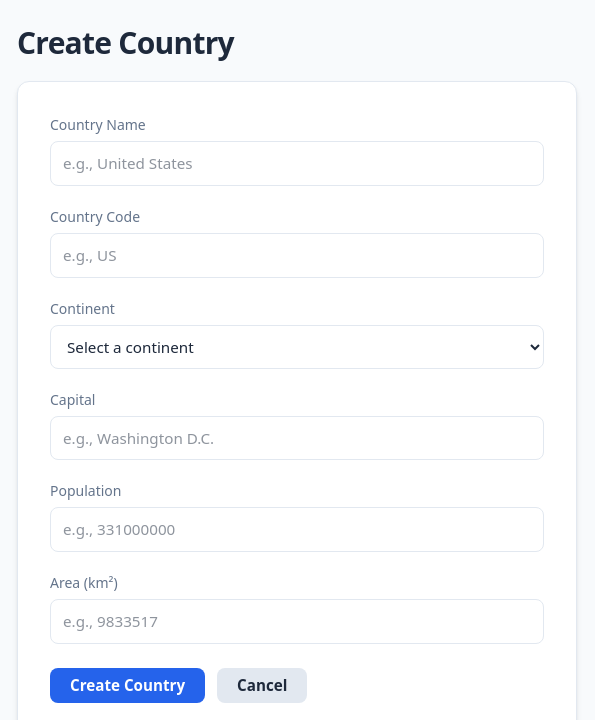
Test: shows timeout message when create request times out
The width and height of the screenshot is (595, 720).
Type "Canada" into the field labelled "Country Name".
click(297, 163); type("Canada")  # box [50,141,544,186]
Type "CA" into the field labelled "Country Code".
click(297, 255); type("CA")  # box [50,233,544,278]
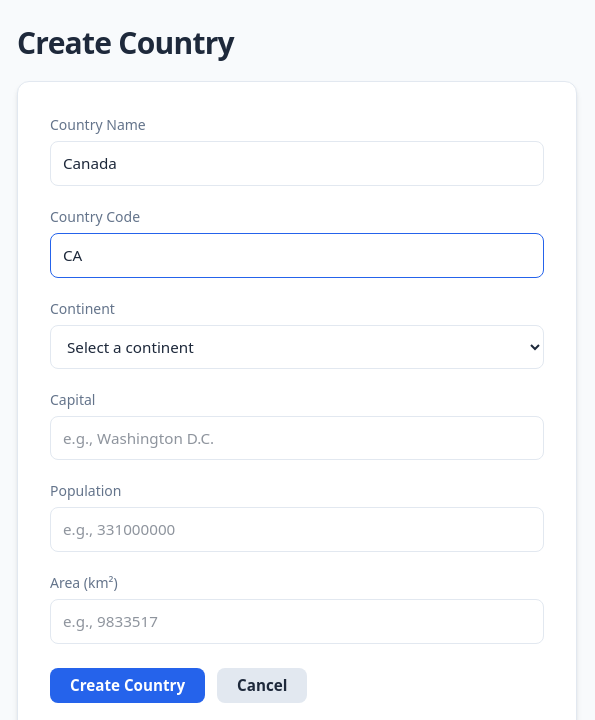
Select "North America" in the dropdown labelled "Continent" at (297, 347), box [50,325,544,369]
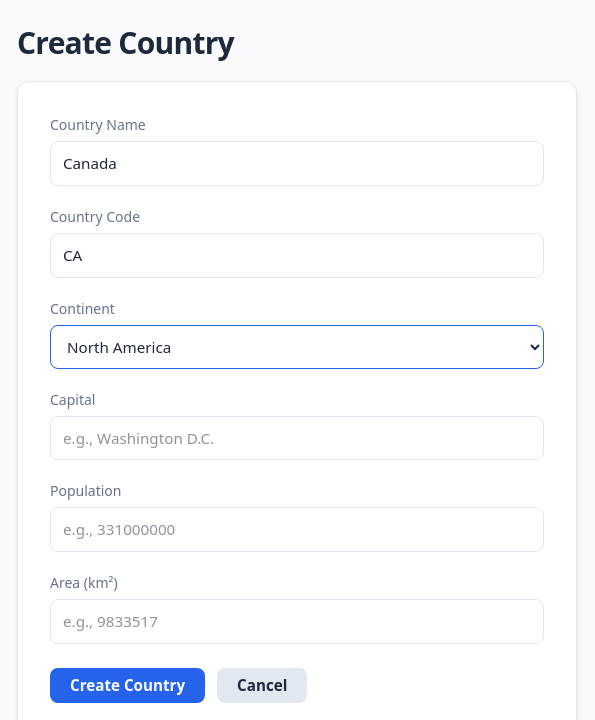
Type "Ottawa" into the field labelled "Capital".
click(297, 438); type("Ottawa")  # box [50,416,544,460]
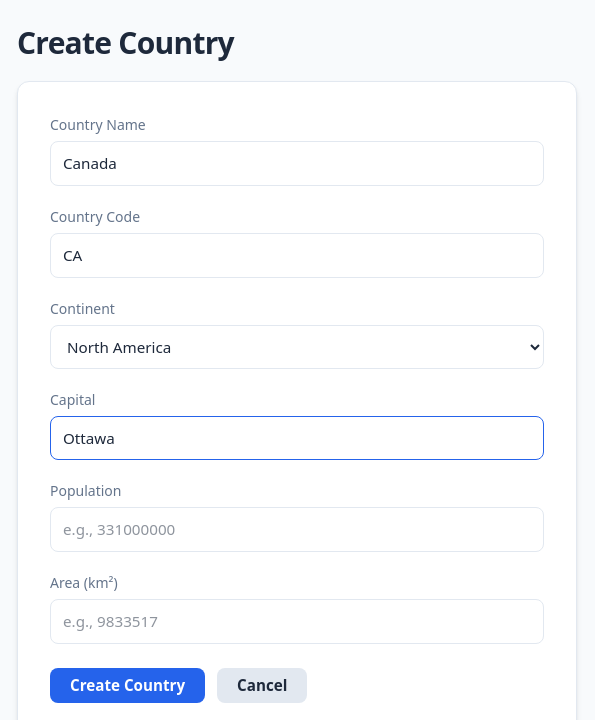
Type "39000000" into the number field labelled "Population".
click(297, 530); type("39000000")  # box [50,507,544,552]
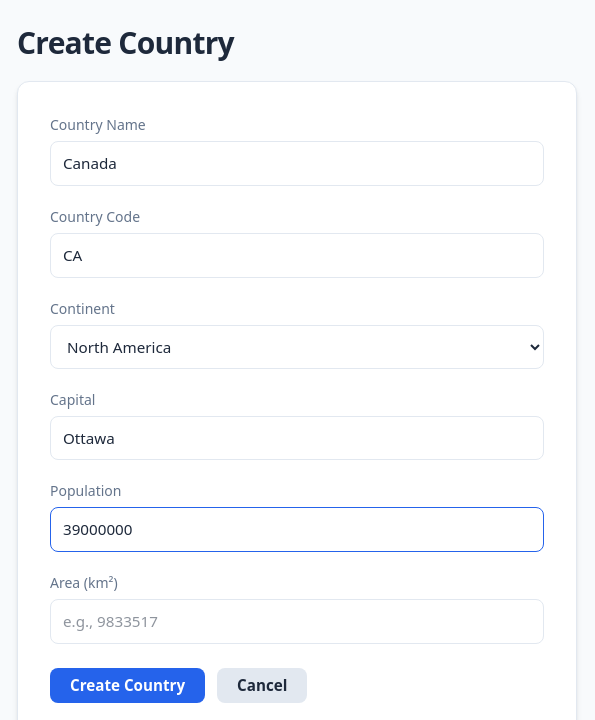
Type "9984670" into the number field labelled "Area (km²)".
click(297, 622); type("9984670")  # box [50,599,544,644]
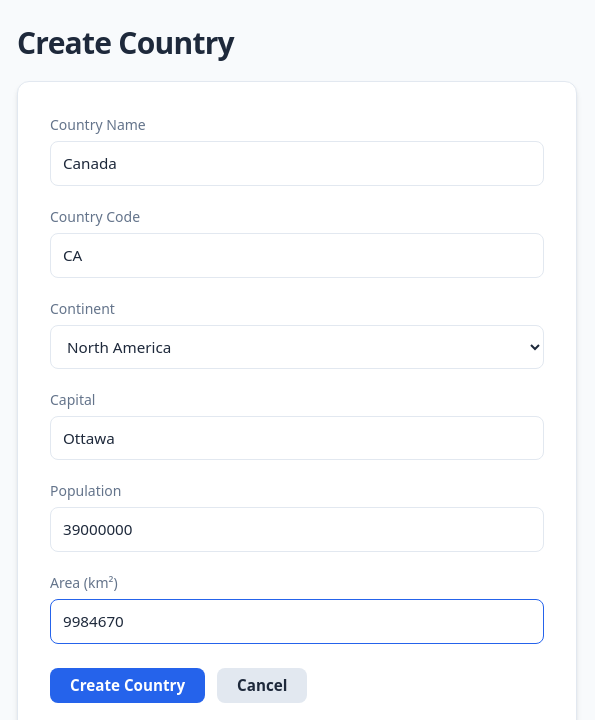
Click the button "Create Country".
click(128, 686)  # box [50,668,205,703]
(page scrolled)
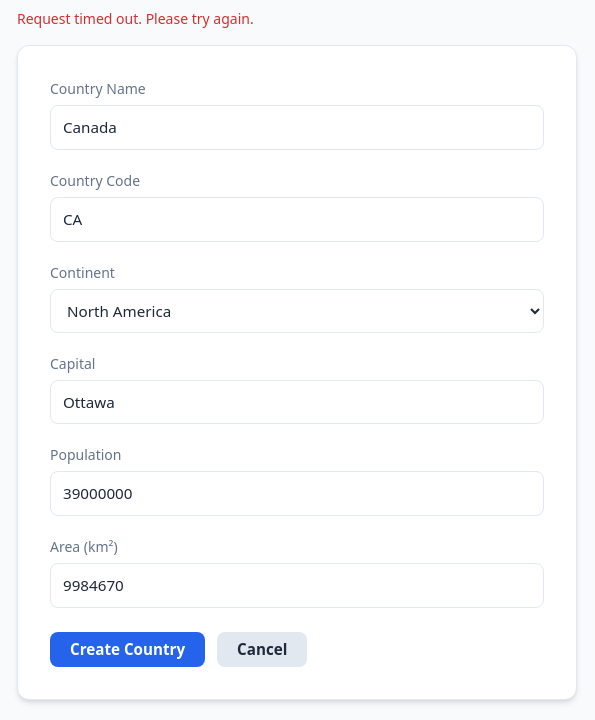
Expected: the button "Create Country" is enabled, [50,632,205,667]
Expected: the text "Request timed out. Please try again." is shown, [17,9,254,28]
